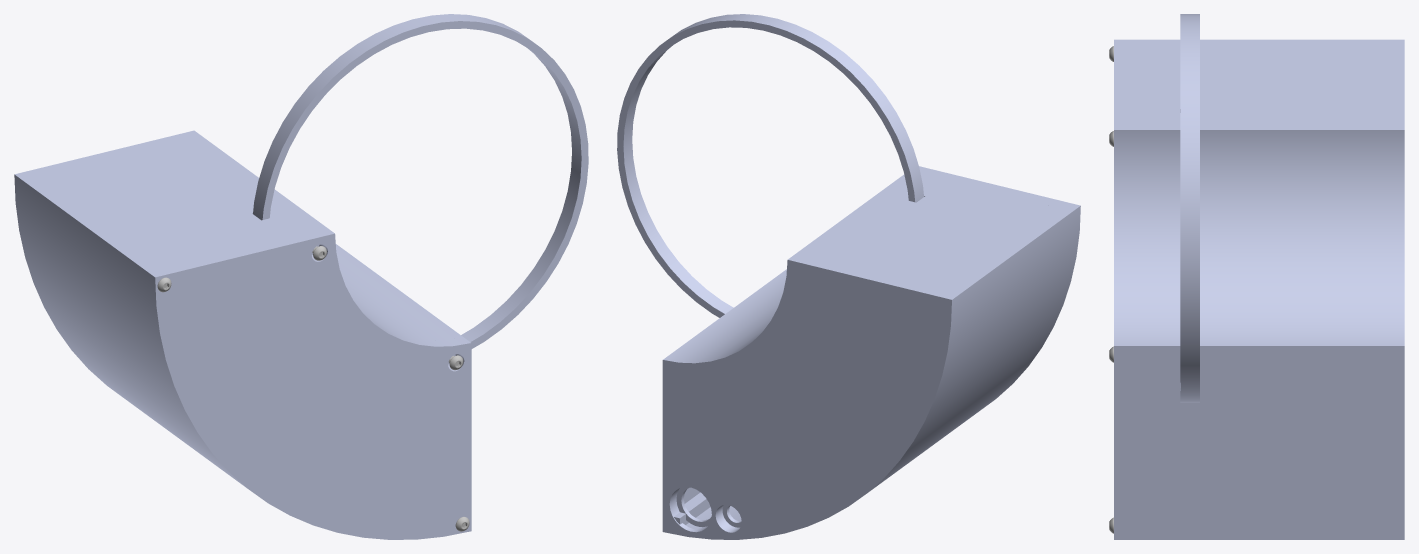
Rendered from kinghacksassembly.glb.
The picture shows the model from 3 angles, left to right: view 1: azimuth 30°, elevation 25°; view 2: azimuth 150°, elevation 25°; view 3: azimuth 270°, elevation 25°; orthographic projection. The views are drawn at different scales.
Visible parts, largest first — view 1: kinghackspresentlid-1, kinghackspresent-1, kingshackspresentbuckle-1; view 2: kinghackspresent-1, kinghackspresentlid-1, kingshackspresentbuckle-1; view 3: kinghackspresent-1, kinghackspresentlid-1, kingshackspresentbuckle-1.
Boxes of the visible parts, left/top/right/bottom form: kinghackspresentlid-1: left=36, top=227, right=471, bottom=539; kinghackspresent-1: left=14, top=130, right=462, bottom=387; kingshackspresentbuckle-1: left=253, top=14, right=588, bottom=348; kinghackspresent-1: left=662, top=174, right=1072, bottom=539; kinghackspresentlid-1: left=784, top=166, right=1080, bottom=489; kingshackspresentbuckle-1: left=617, top=14, right=923, bottom=317; kinghackspresent-1: left=1132, top=39, right=1404, bottom=539; kinghackspresentlid-1: left=1114, top=39, right=1180, bottom=539; kingshackspresentbuckle-1: left=1180, top=14, right=1199, bottom=402.
Bounding box in the file's own units: 0.1962 × 0.1957 × 0.1045.
